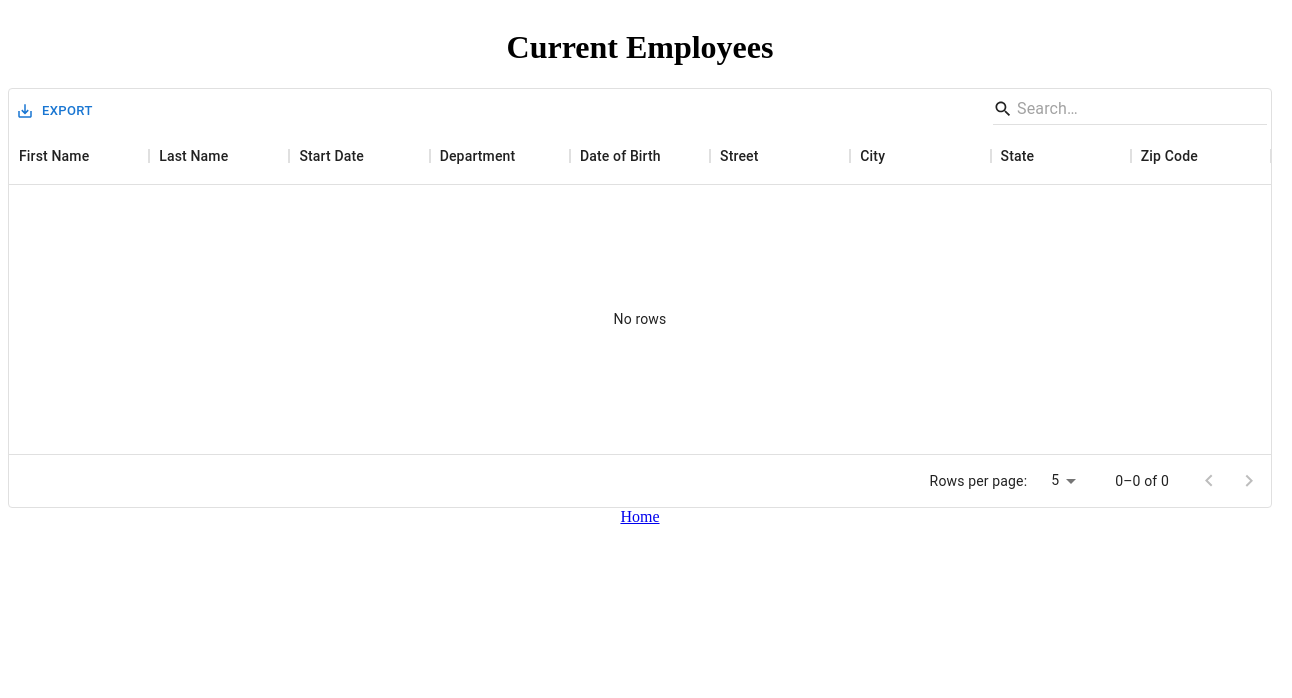
Test: Go back to home page › should go back to home page
Click the link "Home". click: {"x": 640, "y": 517}
box: [620,508,659,526]
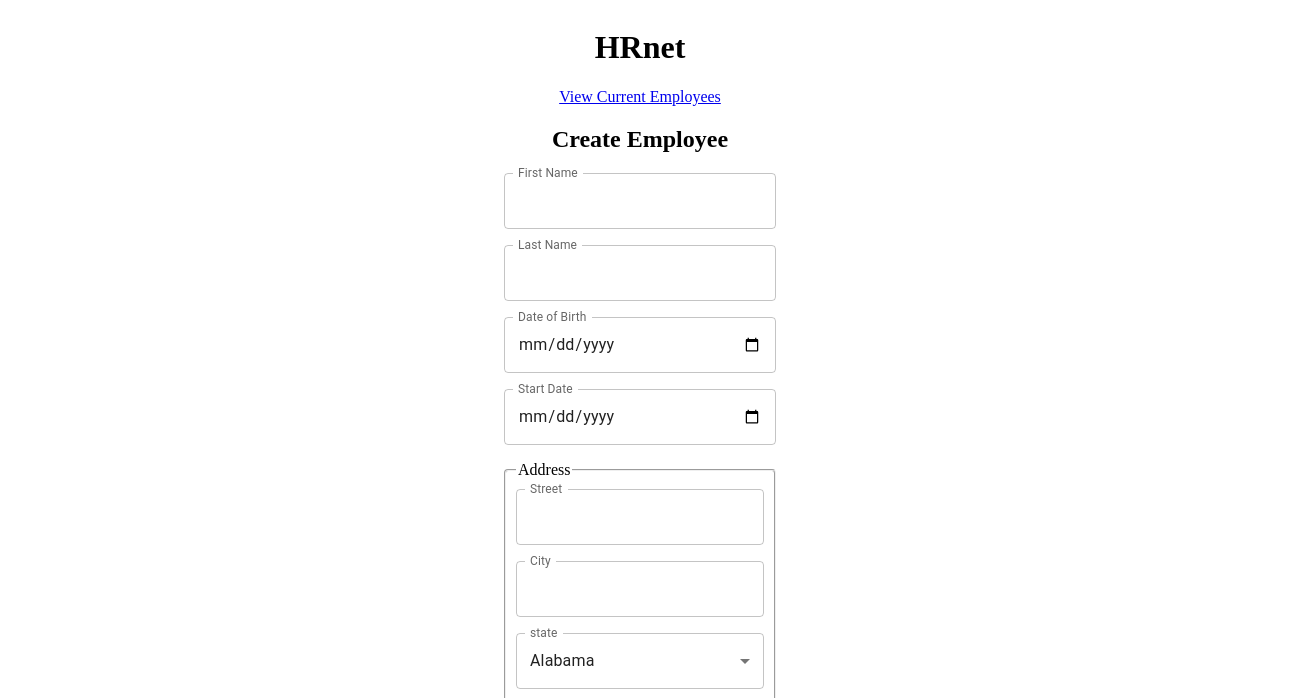
Result: the heading "Create Employee" is shown at [552,126,728,153]
